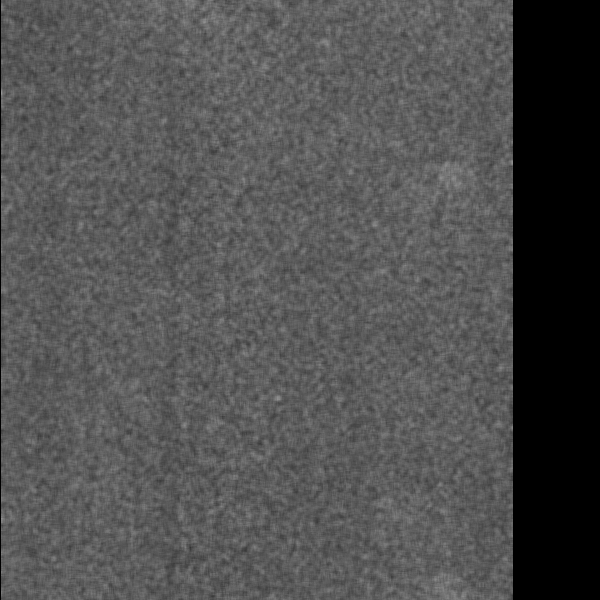spark: (205, 259, 250, 371)
